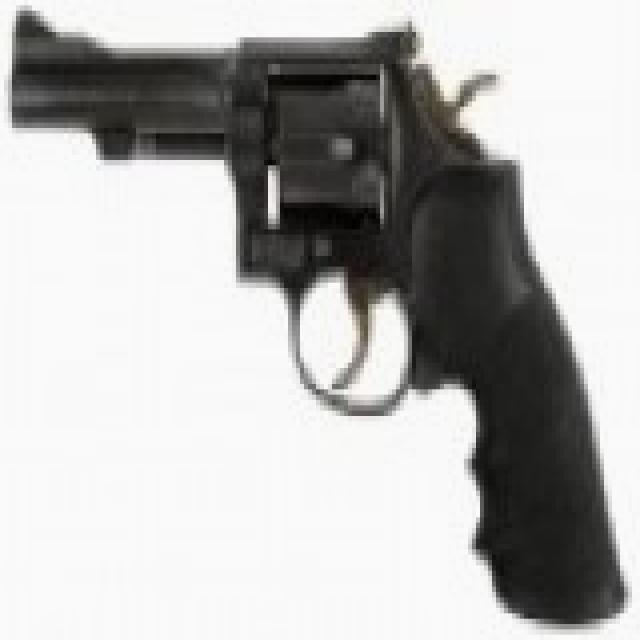pistol: (24, 6, 628, 614)
